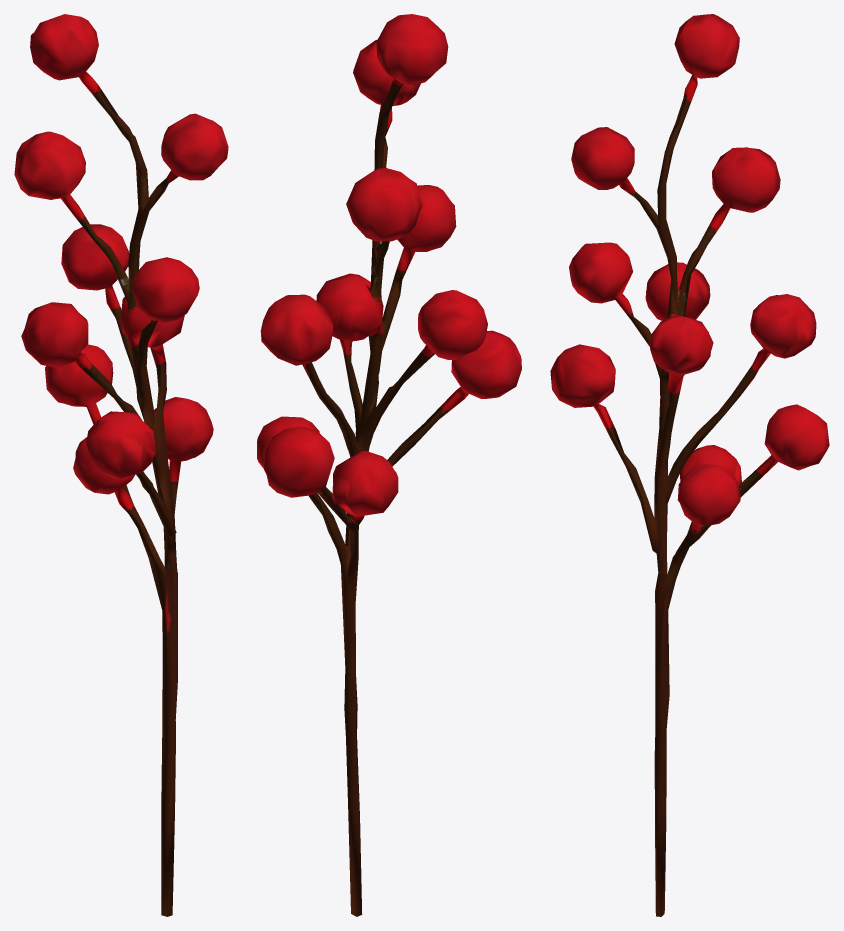
File: RedBalls.glb
3 views of the same model, side by side, from view 1: azimuth 30°, elevation 25°; view 2: azimuth 150°, elevation 25°; view 3: azimuth 270°, elevation 25° (orthographic). The views are drawn at different scales.
Visible parts, largest first — view 1: tripo_node_3e020371-9225-4e04-be68-c062e054af35; view 2: tripo_node_3e020371-9225-4e04-be68-c062e054af35; view 3: tripo_node_3e020371-9225-4e04-be68-c062e054af35.
Boxes of the visible parts, left/top/right/bottom form: tripo_node_3e020371-9225-4e04-be68-c062e054af35: left=14, top=14, right=228, bottom=916; tripo_node_3e020371-9225-4e04-be68-c062e054af35: left=257, top=14, right=521, bottom=916; tripo_node_3e020371-9225-4e04-be68-c062e054af35: left=550, top=14, right=829, bottom=916.
Bounding box in the file's own units: 0.2309 × 0.9994 × 0.2932.
Materials: 1 (1 with a texture image).
